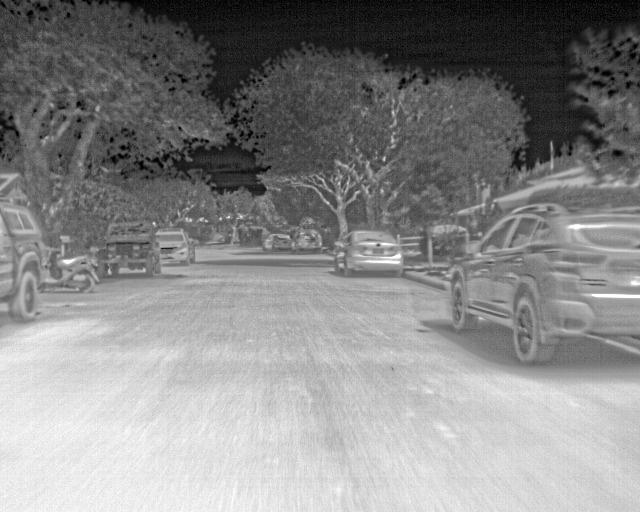bicycle: (49, 256, 99, 298)
car: (448, 200, 639, 367), (0, 198, 49, 322), (97, 220, 165, 276), (335, 228, 404, 276), (154, 225, 194, 267), (290, 228, 323, 251), (264, 233, 291, 251)
